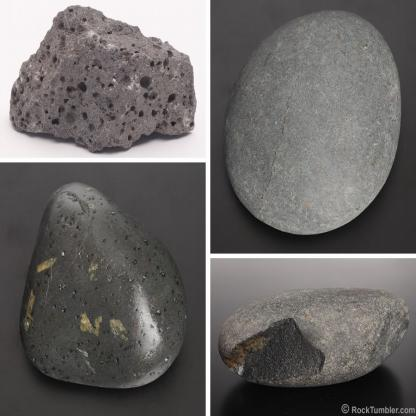Igneous_Basalt: (224, 1, 406, 236), (15, 180, 192, 400), (7, 3, 197, 154), (218, 284, 411, 386)
